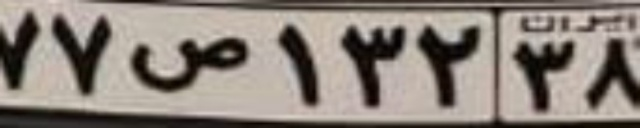1: (274, 21, 317, 106)
2: (413, 24, 476, 107)
3: (340, 23, 405, 108), (512, 39, 574, 112)
7: (47, 11, 114, 94), (0, 5, 45, 91)
8: (583, 37, 637, 109)
saat: (128, 34, 248, 93)
